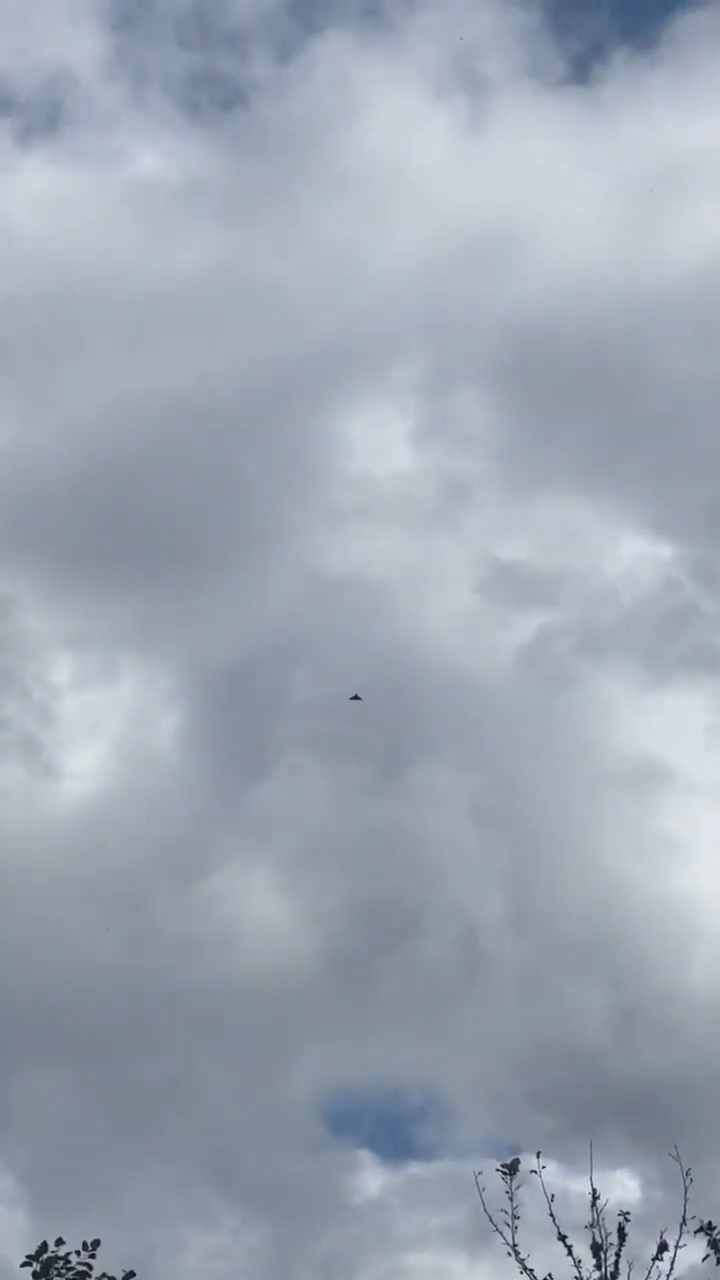shahed: (348, 692, 365, 702)
